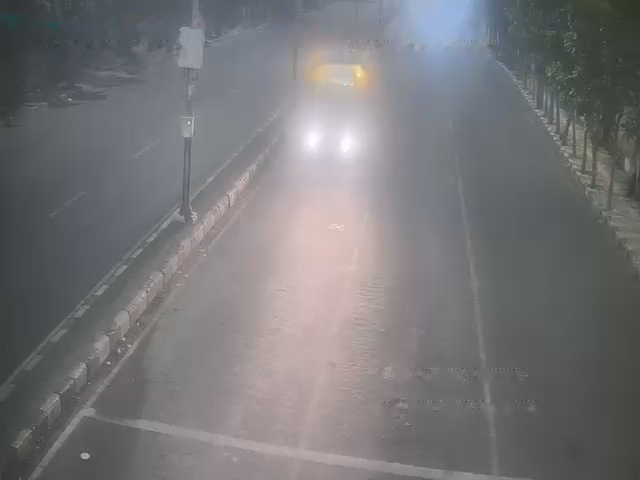Mobil: (306, 66, 367, 166)
